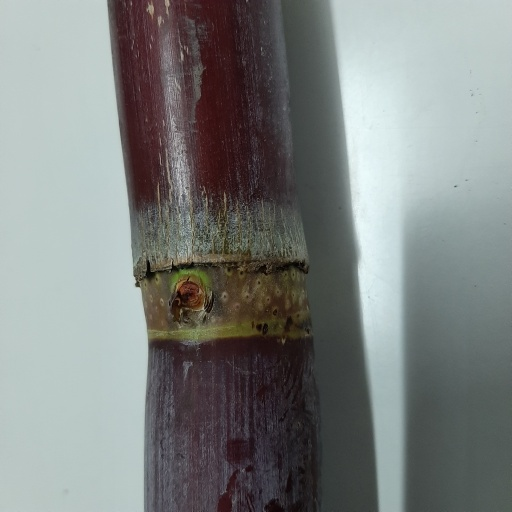Damage_Bud: (168, 275, 211, 323)
